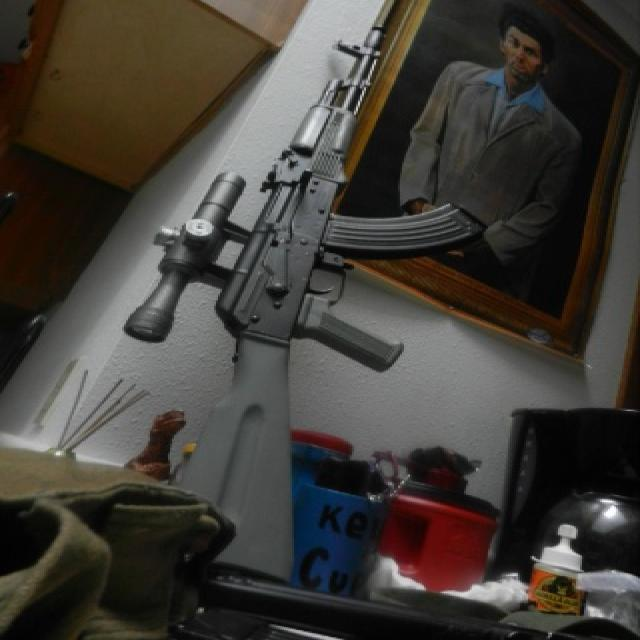rifle: (113, 4, 479, 590)
